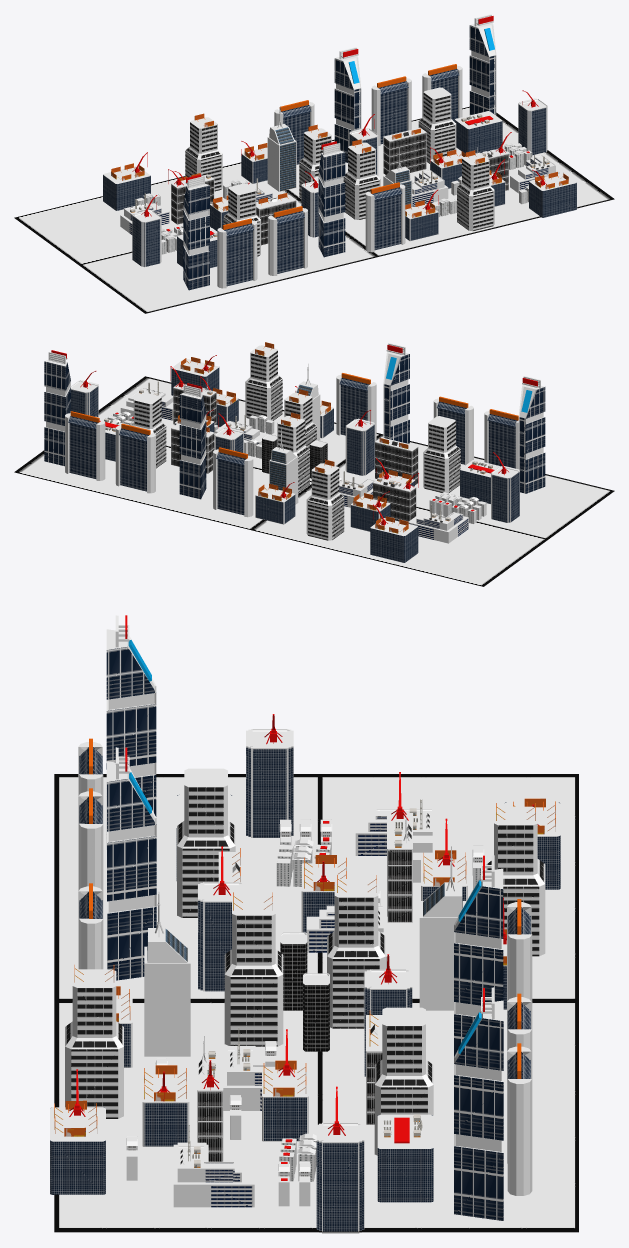
The model's file is White.obj.
3 renders of one model, top to bottom at view 1: azimuth 30°, elevation 25°; view 2: azimuth 150°, elevation 25°; view 3: azimuth 270°, elevation 25°, orthographic. The views are drawn at different scales.
Visible parts, largest first — view 1: Ground, _3_1, _50_1, _4_1, _52_1, _51_1, _30, _50, _51, _3, _7, _49 (+26 smaller); view 2: Ground, _3, _50_1, _50, _51, _4, _52, _30_1, _7_1, _30, _3_1, _52_1 (+29 smaller); view 3: Ground, _50, _3_1, _49, _30, _49_1, _50_1, _3, _7_1, _8, _7, _48 (+28 smaller).
Boxes of the visible parts, x1=… form: Ground: x1=14, y1=106, x2=614, y2=313; _3_1: x1=318, y1=143, x2=345, y2=257; _50_1: x1=183, y1=176, x2=209, y2=290; _4_1: x1=217, y1=218, x2=257, y2=288; _52_1: x1=365, y1=182, x2=405, y2=252; _51_1: x1=268, y1=206, x2=307, y2=275; _30: x1=457, y1=153, x2=494, y2=231; _50: x1=469, y1=14, x2=496, y2=115; _51: x1=371, y1=76, x2=411, y2=145; _3: x1=334, y1=47, x2=361, y2=162; _7: x1=418, y1=87, x2=456, y2=163; _49: x1=343, y1=142, x2=380, y2=219; Ground: x1=14, y1=376, x2=614, y2=586; _3: x1=179, y1=385, x2=206, y2=499; _50_1: x1=518, y1=376, x2=545, y2=493; _50: x1=44, y1=352, x2=70, y2=466; _51: x1=115, y1=423, x2=155, y2=493; _4: x1=65, y1=411, x2=105, y2=480; _52: x1=213, y1=447, x2=253, y2=517; _30_1: x1=306, y1=463, x2=344, y2=540; _7_1: x1=423, y1=416, x2=460, y2=492; _30: x1=245, y1=345, x2=282, y2=420; _3_1: x1=383, y1=343, x2=409, y2=443; _52_1: x1=336, y1=373, x2=376, y2=441; Ground: x1=54, y1=774, x2=578, y2=1232; _50: x1=454, y1=987, x2=503, y2=1220; _3_1: x1=107, y1=747, x2=156, y2=980; _49: x1=224, y1=897, x2=283, y2=1046; _30: x1=65, y1=969, x2=123, y2=1118; _49_1: x1=327, y1=879, x2=385, y2=1028; _50_1: x1=106, y1=615, x2=156, y2=849; _3: x1=454, y1=855, x2=503, y2=1056; _7_1: x1=177, y1=768, x2=235, y2=917; _8: x1=144, y1=891, x2=190, y2=1056; _7: x1=374, y1=1007, x2=433, y2=1155; _48: x1=316, y1=1122, x2=364, y2=1233.
Bounding box in the file's own units: 565 × 127 × 276.
Materials: 39 (20 with a texture image).
